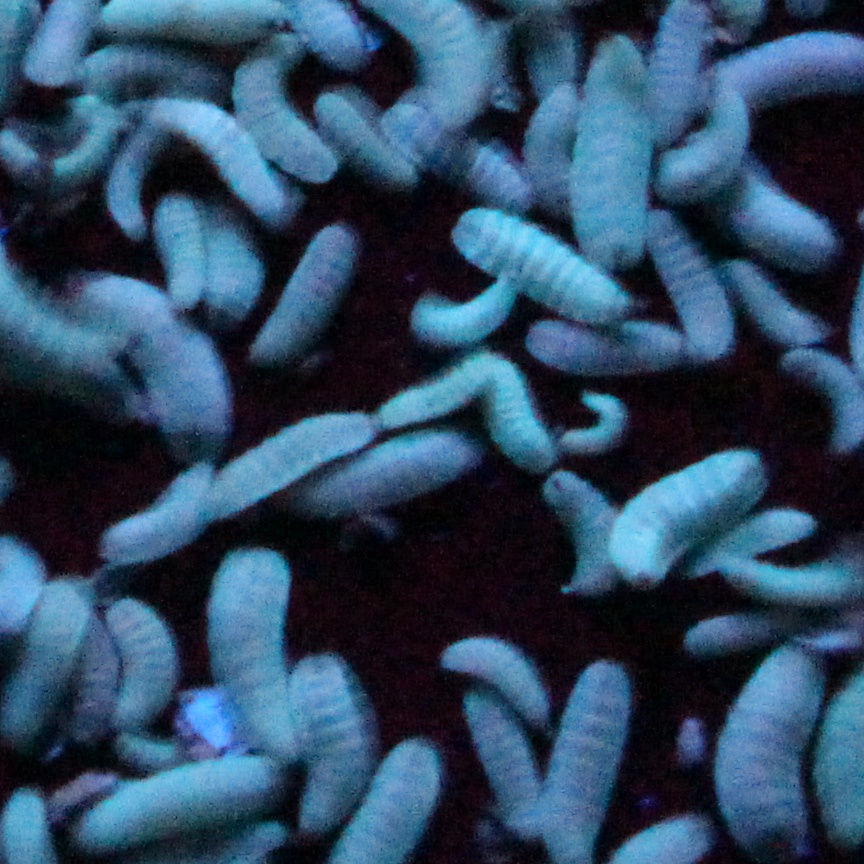larve: (82, 262, 235, 455), (605, 432, 770, 592), (200, 402, 377, 515), (210, 550, 305, 757), (577, 42, 665, 265), (82, 756, 284, 852), (460, 215, 630, 327), (150, 100, 295, 230), (0, 574, 98, 742), (297, 435, 477, 525), (462, 675, 545, 847), (225, 47, 330, 180), (645, 82, 757, 205), (292, 660, 372, 832), (727, 140, 837, 265), (362, 345, 525, 425), (105, 460, 220, 567), (712, 550, 862, 630), (260, 227, 357, 350), (312, 90, 420, 195), (547, 465, 625, 607), (104, 590, 176, 722), (695, 495, 817, 570), (485, 372, 562, 487), (412, 275, 525, 352), (147, 170, 210, 307), (657, 222, 725, 342), (535, 80, 595, 215), (445, 637, 552, 712), (537, 307, 635, 385), (65, 80, 137, 177), (450, 140, 535, 220), (80, 606, 126, 748), (565, 377, 632, 465), (215, 230, 252, 307)
